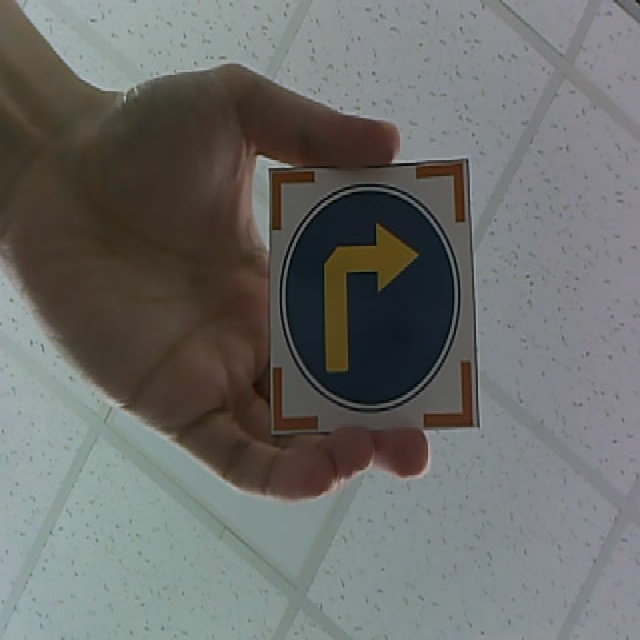right: (264, 159, 482, 433)
